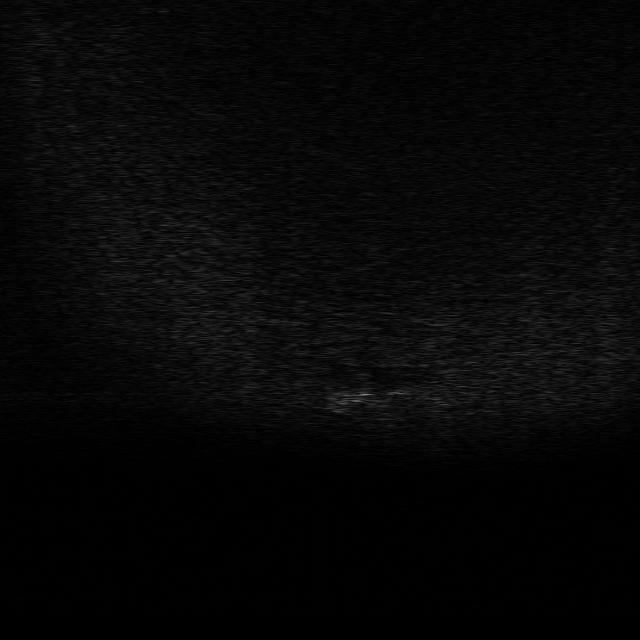plane: (324, 383, 415, 421)
